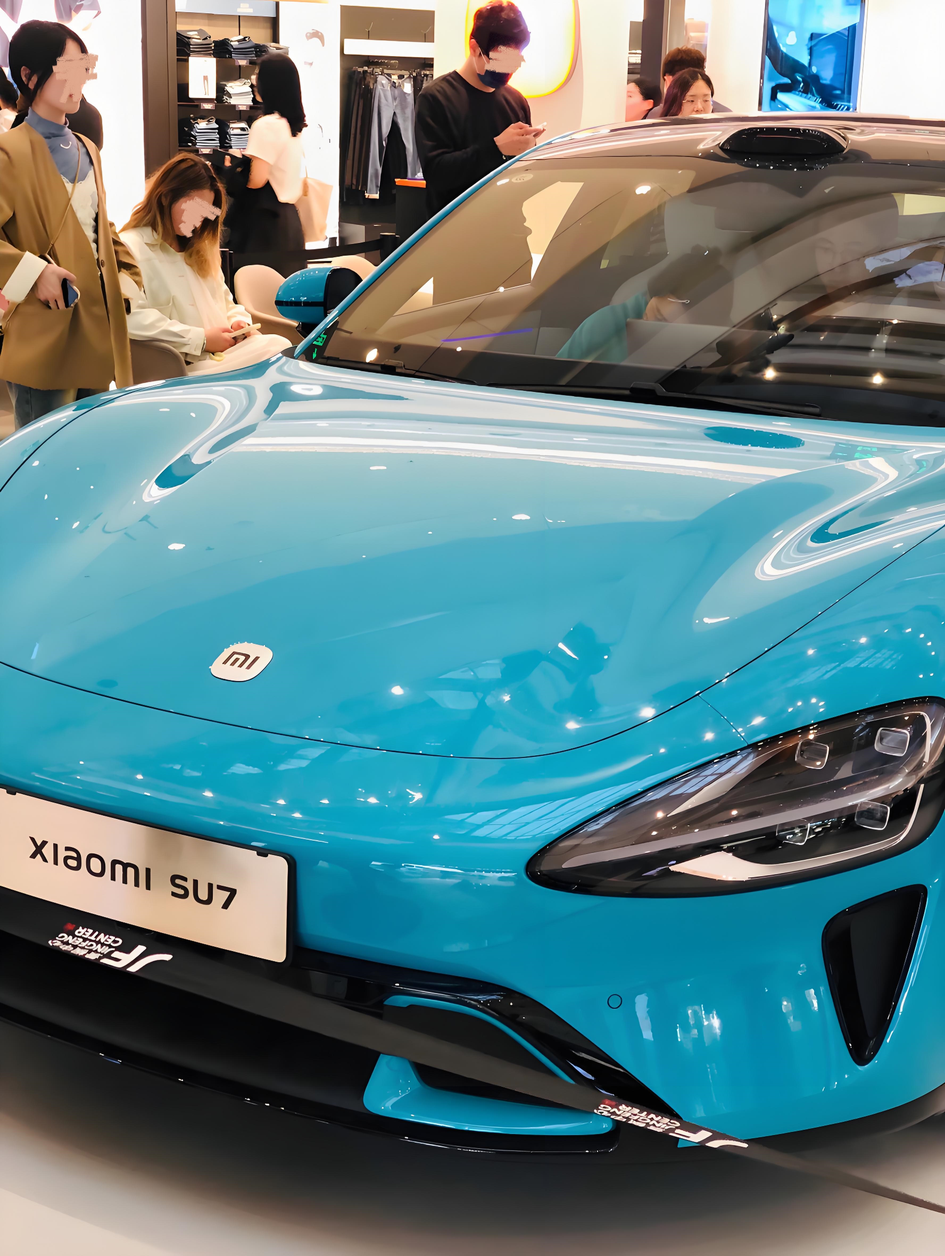XIAOMI: (210, 642, 273, 681)
